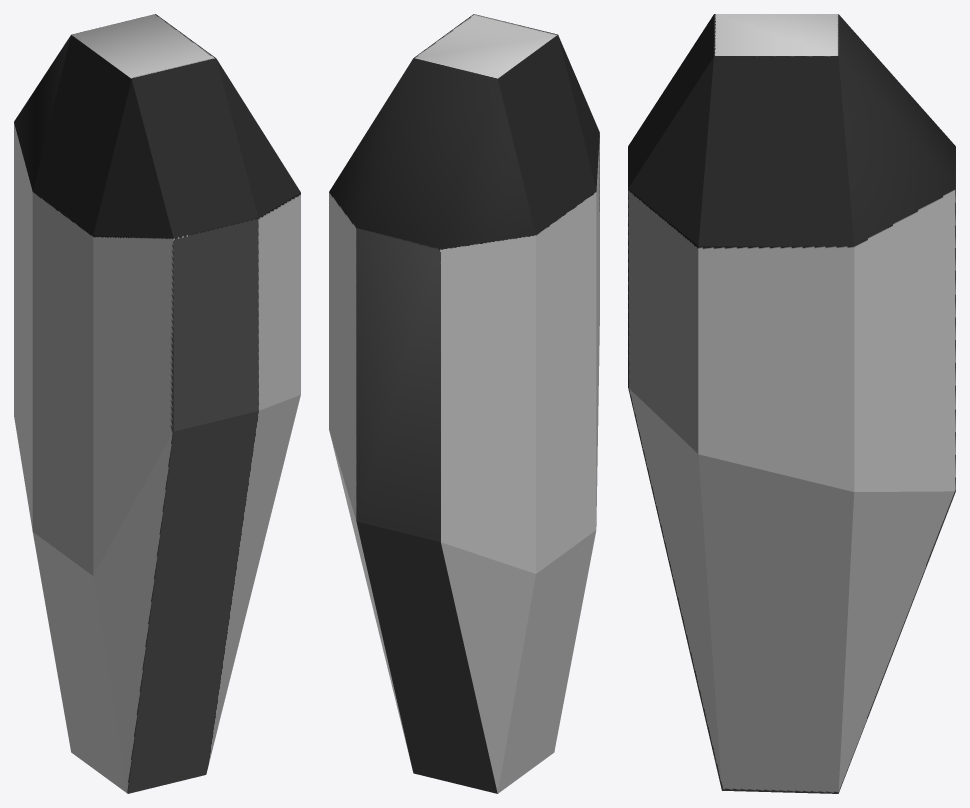
File: RLeagAbove.fbx
The picture shows the model from 3 angles, left to right: view 1: azimuth 30°, elevation 25°; view 2: azimuth 150°, elevation 25°; view 3: azimuth 270°, elevation 25°; orthographic projection. The views are drawn at different scales.
Visible parts, largest first — view 1: Shape_IndexedFaceSet.015; view 2: Shape_IndexedFaceSet.015; view 3: Shape_IndexedFaceSet.015.
Boxes of the visible parts, x1,y1,x2,y2 form: Shape_IndexedFaceSet.015: [14, 14, 300, 793]; Shape_IndexedFaceSet.015: [329, 14, 599, 793]; Shape_IndexedFaceSet.015: [628, 14, 955, 793].
Size of the model in its own units: 0.1272 by 0.4361 by 0.1757.
1 material, 1 textured.
